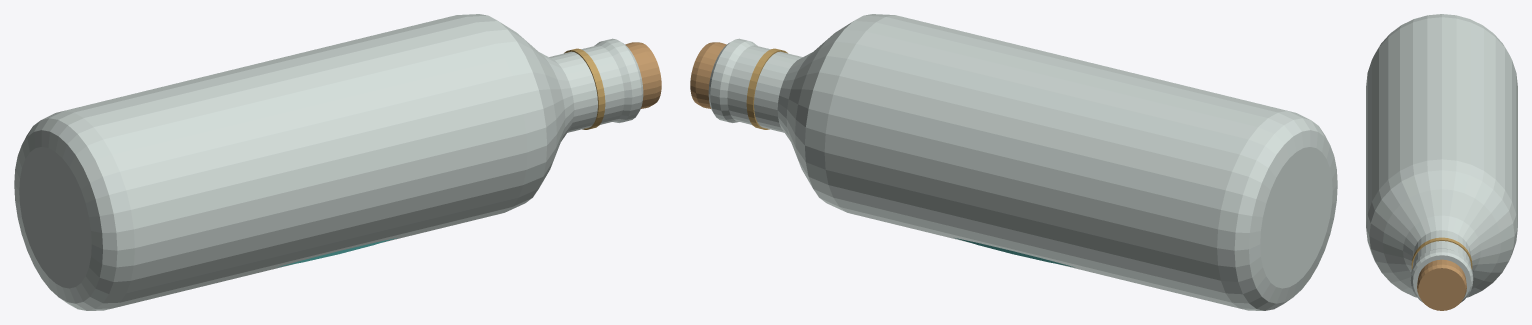
Rendered from bottle-second.glb.
3 renders of one model, left to right at view 1: azimuth 30°, elevation 25°; view 2: azimuth 150°, elevation 25°; view 3: azimuth 270°, elevation 25°, orthographic. The views are drawn at different scales.
Visible parts, largest first — view 1: Bottle | glass shell, Bottle | cork, Bottle | collar; view 2: Bottle | glass shell, Bottle | cork, Bottle | collar; view 3: Bottle | glass shell, Bottle | cork, Bottle | collar.
Boxes of the visible parts, bbox=[...] form: Bottle | glass shell: bbox=[14, 14, 643, 310]; Bottle | cork: bbox=[625, 42, 661, 108]; Bottle | collar: bbox=[564, 48, 605, 129]; Bottle | glass shell: bbox=[708, 14, 1337, 310]; Bottle | cork: bbox=[690, 42, 726, 108]; Bottle | collar: bbox=[746, 48, 787, 129]; Bottle | glass shell: bbox=[1366, 14, 1517, 302]; Bottle | cork: bbox=[1417, 259, 1466, 310]; Bottle | collar: bbox=[1411, 237, 1472, 269].
Size of the model in its own units: 0.3008 by 0.0902 by 0.0902.
